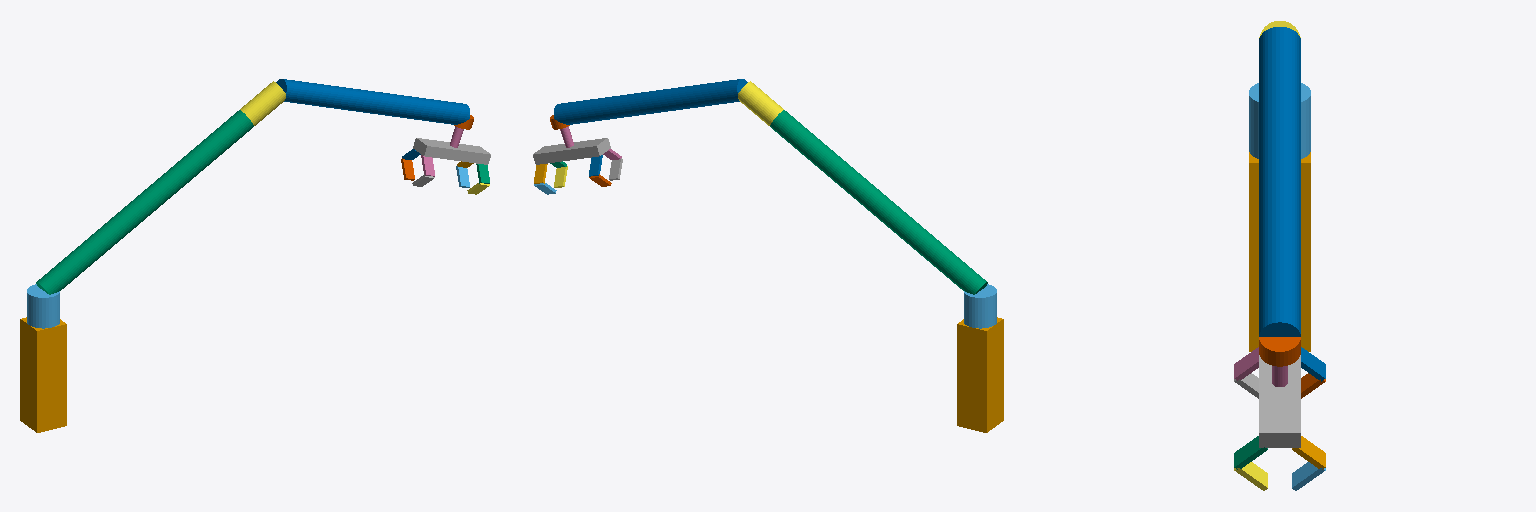
The robot description file, URDF, robot "crane":
<?xml version="1.0"?>
<robot name="crane">

	<!-- Arm of the crane -->

	<link name="base_link">
		<visual>
			<geometry>
				<box size="1.5 1.5 5"/>
			</geometry>
			<origin xyz="0 0 2.5"/>
		</visual>
		<collision>
			<geometry>
				<box size="1.5 1.5 5"/>
			</geometry>
			<origin xyz="0 0 2.5"/>
		</collision>
		
	</link>

	
	<joint name="base_to_link1" type="continuous">
		<axis xyz="0 0 1"/>
		<parent link="base_link"/>
		<child link="link1"/>
		<origin xyz="0 0 5"/>
	</joint>
	
	<link name="link1">
		<visual>
			<geometry>
				<cylinder length="1.5" radius="0.75"/>
			</geometry>
			<origin rpy="0 0 0" xyz="0 0 0.75"/>
		</visual>
		<collision>
			<geometry>
				<cylinder length="1.5" radius="0.75"/>
			</geometry>
			<origin rpy="0 0 0" xyz="0 0 0.75"/>
		</collision>
	</link>
	
	<joint name="link1_to_link2" type="revolute">
		<axis xyz="0 0 1"/>
		<limit effort="1000" upper="-0.175"  lower= "-0.873" velocity="1"/>
		<parent link="link1"/>
		<child link="link2"/>
		<origin rpy="-1.5707963 0 0" xyz="0 0 1.5"/>
	</joint>
	
  
	<link name="link2">
		<visual>
			<geometry>
				<cylinder length="12" radius="0.5"/>
			</geometry>
			<origin rpy="0 -1.5707963 0" xyz="6 0 0"/>
		</visual>
		<collision>
			<geometry>
				<cylinder length="12" radius="0.5"/>
			</geometry>
			<origin rpy="0 -1.5707963 0" xyz="6 0 0"/>
		</collision>
	</link>
	
	<joint name="Link2_to_link3" type="revolute">
		<axis xyz="0 0 1"/>
		<limit effort="1000" lower="0" upper = "1.5707963" velocity="1"/>
		<parent link="link2"/>
		<child link="link3"/>
		<origin xyz="12 0 0"/>
	</joint>
	
	<link name="link3">
		<visual>
			<geometry>
				<cylinder length="2" radius="0.5"/>
			</geometry>
			<origin rpy="0 -1.5707963 0" xyz="1 0 0"/>
		</visual>
		<collision>
			<geometry>
				<cylinder length="2" radius="0.5"/>
			</geometry>
			<origin rpy="0 -1.5707963 0" xyz="1 0 0"/>
		</collision>
	</link>

	<joint name ="Link3_to_Link4" type="revolute">
		<axis xyz="0 0 1"/>
		<limit effort="1000" lower="0.175" upper="1.5707963" velocity = "1"/>
		<parent link="link3"/>
		<child link="link4"/>
		<origin xyz="2 0 0"/>
	</joint>
	
	<link name ="link4">
		<visual>
			<geometry>
				<cylinder length="10" radius="0.5"/>
			</geometry>
			<origin rpy="0 -1.5707936 0" xyz="5 0 0"/>
		</visual>
		<collision>
			<geometry>
				<cylinder length="10" radius="0.5"/>
			</geometry>
			<origin rpy="0 -1.5707936 0" xyz="5 0 0"/>
		</collision>
	</link>
	
	<joint name="Link4_to_Link5" type="revolute">
		<axis xyz="0 0 1"/>
		<limit effort="1000" lower="-3.14" upper ="0.23" velocity="1"/>
		<parent link="link4"/>
		<child link="link5"/>
		<origin xyz="10 0 0"/>
	</joint>
	
	<link name="link5">
		<visual>
			<geometry>
				<cylinder length="0.5" radius="0.5"/>
			</geometry>
			<origin rpy="-1.5707936 -1.5707936 0" xyz="0 0.25 0"/>
		</visual>
		<collision>
			<geometry>
				<cylinder length="0.5" radius="0.5"/>
			</geometry>
			<origin rpy="-1.5707936 -1.5707936 0" xyz="0 0.25 0"/>
		</collision>
	</link>

	<joint name="link5_to_link6" type="continuous">
		<axis xyz="0 0 1"/>
		<parent link="link5"/>
		<child link="link6"/>
		<origin rpy="-1.5707936 0 0" xyz="0 0.5 0"/>
	</joint>
	
	<link name="link6">
		<visual>
			<geometry>
				<cylinder length="1.0" radius="0.2"/>
			</geometry>
			<origin xyz="0 0 0.5"/>
		</visual>
		<collision>
			<geometry>
				<cylinder length="1.0" radius="0.2"/>
			</geometry>
			<origin xyz="0 0 0.5"/>
		</collision>
	</link>
	
	<joint name="link6_to_Gripper" type="revolute">
		<axis xyz="0 1 0"/>
		<limit effort="1000" lower="-0.05" upper ="0.05" velocity="1"/>
		<parent link="link6"/>
		<child link="gripper_base"/>
		<origin xyz="0 0 1"/>
	</joint>

	<!-- Start of gripper -->

	<link name="gripper_base">
		<visual>
			<geometry>
				<box size="3.5 1 0.5"/>
			</geometry>
			<origin xyz="0 0 0.25"/>
		</visual>
		<collision>
			<geometry>
				<box size="3.5 1 0.5"/>
			</geometry>
			<origin xyz="0 0 0.25"/>
		</collision>
	</link>
	
	<!-- Gripper in the front -->
	
	<joint name="gbase_to_flg" type="revolute">
		<axis xyz="0 0 1"/>
		<limit effort="1000" lower="-0.9" upper ="0.16" velocity="1"/>
		<parent link="gripper_base"/>
		<child link="flgripper1"/>
		<origin rpy="1.5707963 -0.7853981 -1.5707963" xyz="1.5 -0.33 0.5"/>
	</joint>

	<link name="flgripper1">
		<visual>
			<geometry>
				<box size="1 0.15 0.5"/>
			</geometry>
			<origin xyz="0.5 0 0"/>
		</visual>
		<collision>
			<geometry>
				<box size="1 0.15 0.5"/>
			</geometry>
			<origin xyz="0.5 0 0"/>
		</collision>
	</link>

	<joint name="flg1_to_flg2" type="fixed">
		<parent link="flgripper1"/>
		<child link="flgripper2"/>
		<origin xyz="1 0 0"/>
	</joint>

	<link name="flgripper2">
		<visual>
			<geometry>
				<box size="0.15 1 0.5"/>
			</geometry>
			<origin xyz="0 0.5 0"/>
		</visual>
		<collision>
			<geometry>
				<box size="0.15 1 0.5"/>
			</geometry>
			<origin xyz="0 0.5 0"/>
		</collision>
	</link>

	<joint name="gbase_to_frg" type="revolute">
		<axis xyz="0 0 1"/>
		<limit effort="1000" lower="-0.16" upper ="0.9" velocity="1"/>
		<parent link="gripper_base"/>
		<child link="frgripper1"/>
		<origin rpy="1.5707963 -0.7853981 -1.5707963" xyz="1.5 0.33 0.5"/>
	</joint>

	<link name="frgripper1">
		<visual>
			<geometry>
				<box size="0.15 1 0.5"/>
			</geometry>
			<origin xyz="0 0.5 0"/>
		</visual>
		<collision>
			<geometry>
				<box size="0.15 1 0.5"/>
			</geometry>
			<origin xyz="0 0.5 0"/>
		</collision>
	</link>

	<joint name="frg1_to_frg2" type="fixed">
		<parent link="frgripper1"/>
		<child link="frgripper2"/>
		<origin xyz="0 1 0"/>
	</joint>

	<link name="frgripper2">
		<visual>
			<geometry>
				<box size="1 0.15 0.5"/>
			</geometry>
			<origin xyz="0.5 0 0"/>
		</visual>
		<collision>
			<geometry>
				<box size="1 0.15 0.5"/>
			</geometry>
			<origin xyz="0.5 0 0"/>
		</collision>
	</link>

<!-- Gripper in the back -->

<joint name="gbase_to_blg" type="revolute">
		<axis xyz="0 0 1"/>
		<limit effort="1000" lower="-0.9" upper ="0.16" velocity="1"/>
		<parent link="gripper_base"/>
		<child link="blgripper1"/>
		<origin rpy="1.5707963 -0.7853981 -1.5707963" xyz="-1.5 -0.33 0.5"/>
	</joint>

	<link name="blgripper1">
		<visual>
			<geometry>
				<box size="1 0.15 0.5"/>
			</geometry>
			<origin xyz="0.5 0 0"/>
		</visual>
		<collision>
			<geometry>
				<box size="1 0.15 0.5"/>
			</geometry>
			<origin xyz="0.5 0 0"/>
		</collision>
	</link>

	<joint name="blg1_to_blg2" type="fixed">
		<parent link="blgripper1"/>
		<child link="blgripper2"/>
		<origin xyz="1 0 0"/>
	</joint>

	<link name="blgripper2">
		<visual>
			<geometry>
				<box size="0.15 1 0.5"/>
			</geometry>
			<origin xyz="0 0.5 0"/>
		</visual>
		<collision>
			<geometry>
				<box size="0.15 1 0.5"/>
			</geometry>
			<origin xyz="0 0.5 0"/>
		</collision>
	</link>

	<joint name="gbase_to_brg" type="revolute">
		<axis xyz="0 0 1"/>
		<limit effort="1000" lower="-0.16" upper ="0.9" velocity="1"/>
		<parent link="gripper_base"/>
		<child link="brgripper1"/>
		<origin rpy="1.5707963 -0.7853981 -1.5707963" xyz="-1.5 0.33 0.5"/>
	</joint>

	<link name="brgripper1">
		<visual>
			<geometry>
				<box size="0.15 1 0.5"/>
			</geometry>
			<origin xyz="0 0.5 0"/>
		</visual>
		<collision>
			<geometry>
				<box size="0.15 1 0.5"/>
			</geometry>
			<origin xyz="0 0.5 0"/>
		</collision>
	</link>

	<joint name="brg1_to_brg2" type="fixed">
		<parent link="brgripper1"/>
		<child link="brgripper2"/>
		<origin xyz="0 1 0"/>
	</joint>

	<link name="brgripper2">
		<visual>
			<geometry>
				<box size="1 0.15 0.5"/>
			</geometry>
			<origin xyz="0.5 0 0"/>
		</visual>
		<collision>
			<geometry>
				<box size="1 0.15 0.5"/>
			</geometry>
			<origin xyz="0.5 0 0"/>
		</collision>
	</link>


</robot>

--- Render facts (derived) ---
Views: 3 orthographic renders of the robot side by side, from view 1: azimuth 30°, elevation 25°; view 2: azimuth 150°, elevation 25°; view 3: azimuth 270°, elevation 25°.
Model crane with 16 links and 15 joints (9 revolute, 2 continuous, 4 fixed), rooted at base_link, posed all joints at 0 but 2 set to mid-range because 0 is outside their limits (link1_to_link2 = -0.524, Link3_to_Link4 = 0.8729).
Links seen in each view (by area): view 1: link2, base_link, link4, gripper_base, link1, link3; view 2: link2, base_link, link4, gripper_base, link1, link3; view 3: link4, base_link, gripper_base, link1, link5, frgripper1, flgripper1.
Boxes of the visible links, <box> form: link2: <box>36,110,253,294</box>; base_link: <box>20,317,66,432</box>; link4: <box>276,79,469,124</box>; gripper_base: <box>413,138,490,164</box>; link1: <box>27,284,59,328</box>; link3: <box>240,81,285,125</box>; link2: <box>770,110,987,294</box>; base_link: <box>957,317,1003,432</box>; link4: <box>554,79,747,124</box>; gripper_base: <box>533,138,610,164</box>; link1: <box>964,284,996,328</box>; link3: <box>738,81,783,125</box>; link4: <box>1259,27,1300,336</box>; base_link: <box>1249,152,1310,351</box>; gripper_base: <box>1259,355,1300,447</box>; link1: <box>1249,83,1310,158</box>; link5: <box>1259,337,1300,366</box>; frgripper1: <box>1234,436,1267,469</box>; flgripper1: <box>1292,436,1325,469</box>.
Bounding box of the posed robot: 23.4 × 2.18 × 13.97 m (x, y, z).
Geometry: primitives only (box / cylinder / sphere), no mesh files.